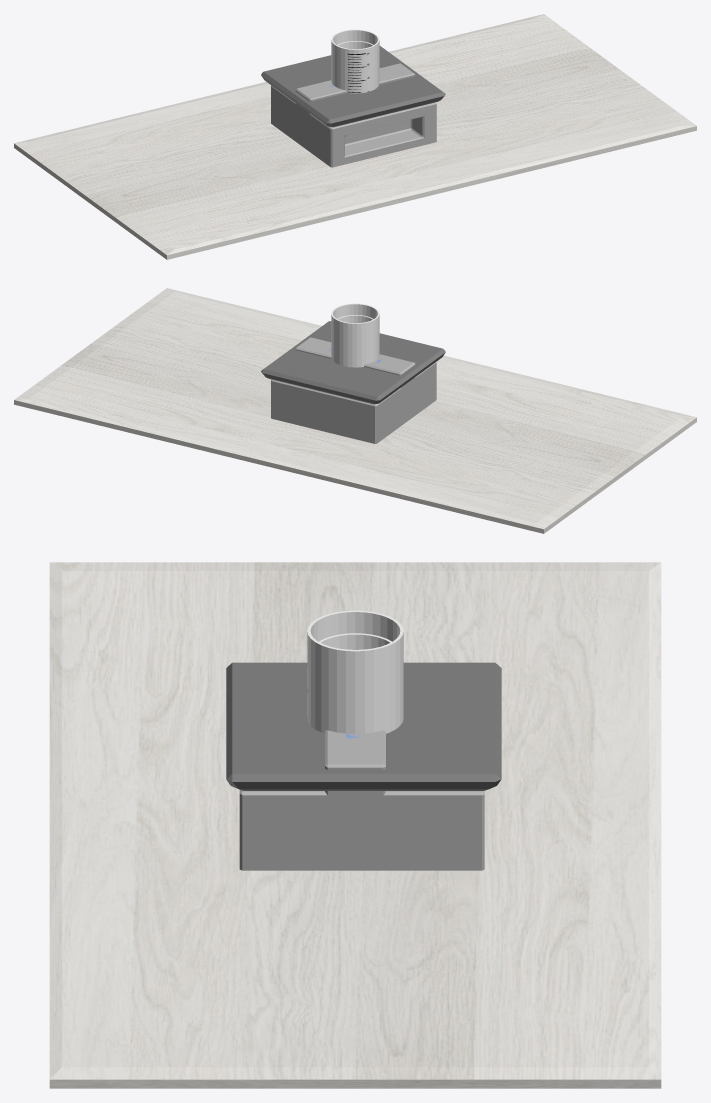
Rendered from stol.fbx.
3 views of the same model, one above another, from view 1: azimuth 30°, elevation 25°; view 2: azimuth 150°, elevation 25°; view 3: azimuth 270°, elevation 25° (orthographic). The views are drawn at different scales.
Parts seen in each view (by area): view 1: Стол, Весы, ВесыВерх, Мерный стакан 5л, Таймер; view 2: Стол, Весы, ВесыВерх, Мерный стакан 5л, Таймер; view 3: Стол, ВесыВерх, Весы, Мерный стакан 5л, Таймер, Мерный стакан без мер.
Part boxes in pixels (<box>): Стол: <box>14,14,696,259</box>; Весы: <box>271,85,436,167</box>; ВесыВерх: <box>261,46,445,127</box>; Мерный стакан 5л: <box>331,29,379,93</box>; Таймер: <box>295,63,415,121</box>; Стол: <box>14,288,696,533</box>; Весы: <box>271,362,436,443</box>; ВесыВерх: <box>261,321,445,404</box>; Мерный стакан 5л: <box>331,303,379,367</box>; Таймер: <box>295,337,415,389</box>; Стол: <box>49,562,661,1088</box>; ВесыВерх: <box>226,662,501,790</box>; Весы: <box>239,790,484,870</box>; Мерный стакан 5л: <box>307,610,403,733</box>; Таймер: <box>325,730,385,870</box>; Мерный стакан без мер: <box>319,633,391,649</box>.
Size of the model in its own units: 2000 by 359 by 1000.
10 materials, 3 textured.
